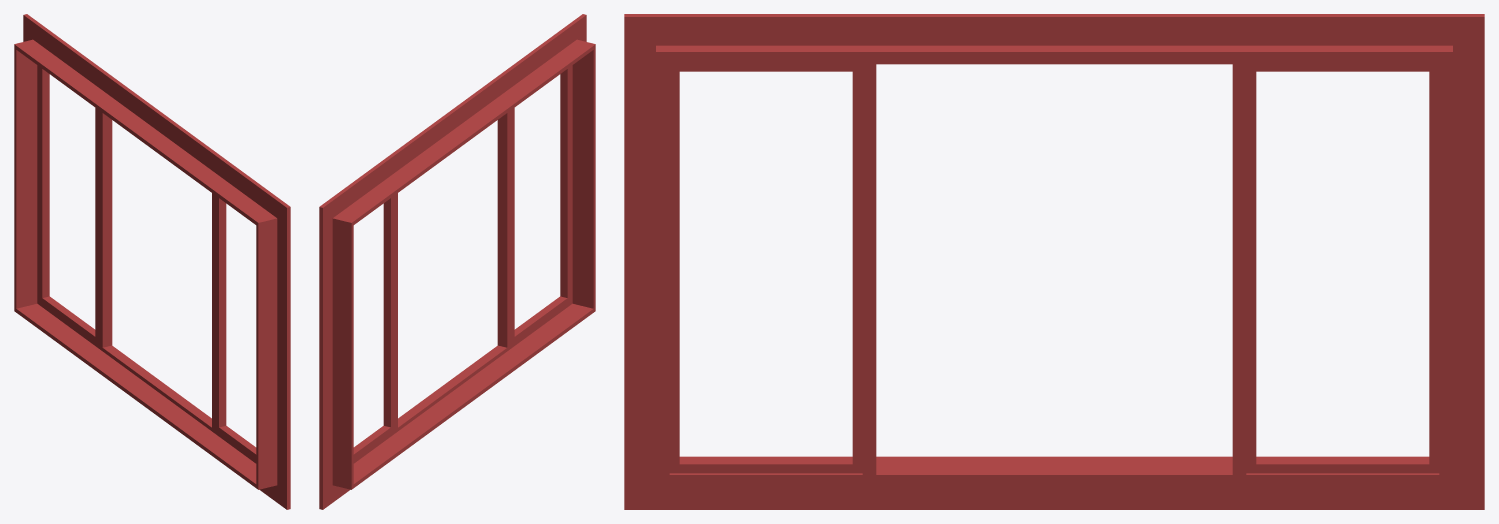
Rendered from Window01.fbx.
3 views of the same model, side by side, from view 1: azimuth 30°, elevation 25°; view 2: azimuth 150°, elevation 25°; view 3: azimuth 270°, elevation 25° (orthographic). The views are drawn at different scales.
Visible parts, largest first — view 1: Window01; view 2: Window01; view 3: Window01.
Part boxes in pixels (<box>): Window01: <box>14,14,290,509</box>; Window01: <box>319,14,595,509</box>; Window01: <box>624,14,1484,509</box>.
Size of the model in its own units: 15.02 by 142 by 225.
